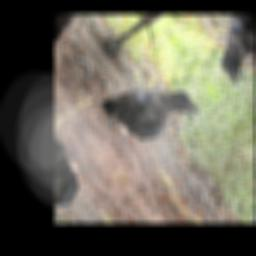Crow: (91, 56, 202, 165)
